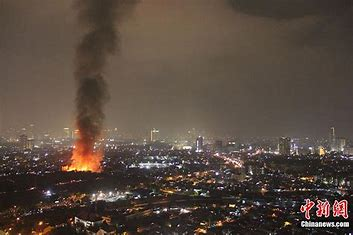fire: (65, 120, 106, 170)
